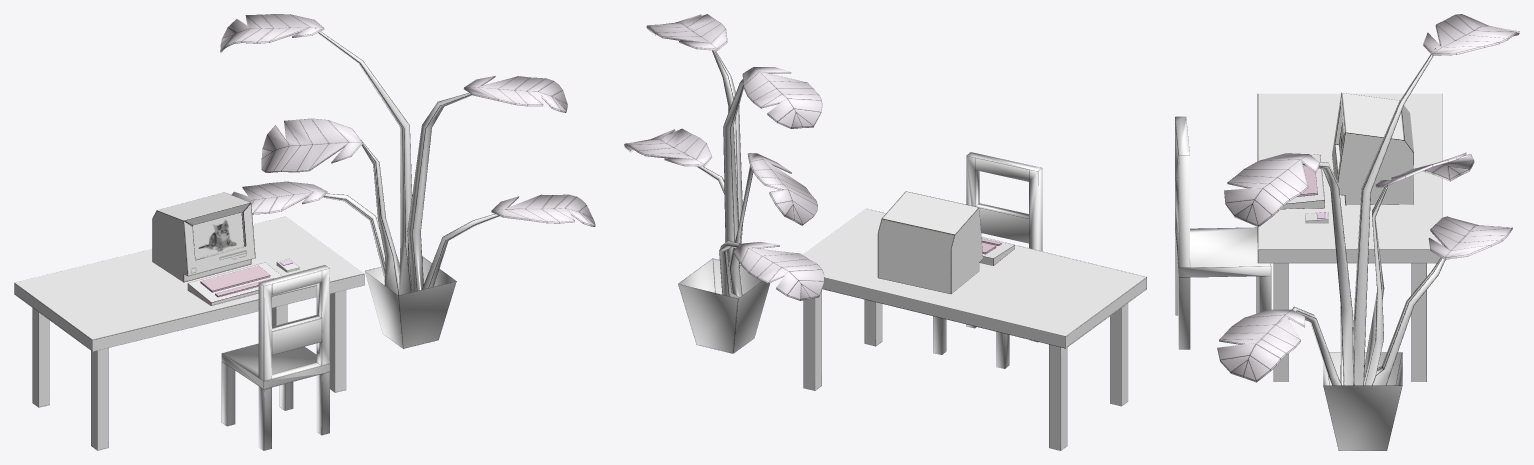
File: room_draft03.gltf
3 renders of one model, left to right at view 1: azimuth 30°, elevation 25°; view 2: azimuth 150°, elevation 25°; view 3: azimuth 270°, elevation 25°, orthographic. The views are drawn at different scales.
Visible parts, largest first — view 1: Palm, Table, Chair, Monitor, Keyboard, Screen; view 2: Table, Palm, Monitor, Chair, Keyboard; view 3: Palm, Table, Chair, Monitor, Keyboard.
Boxes of the visible parts, left/top/right/bottom form: Palm: left=220, top=14, right=595, bottom=348; Table: left=14, top=216, right=364, bottom=450; Chair: left=221, top=265, right=329, bottom=450; Monitor: left=152, top=192, right=255, bottom=282; Keyboard: left=187, top=262, right=281, bottom=305; Screen: left=192, top=212, right=243, bottom=258; Table: left=803, top=208, right=1146, bottom=450; Palm: left=624, top=14, right=824, bottom=353; Monitor: left=877, top=191, right=982, bottom=293; Chair: left=933, top=152, right=1042, bottom=368; Keyboard: left=979, top=238, right=1014, bottom=265; Palm: left=1217, top=14, right=1519, bottom=450; Table: left=1257, top=93, right=1442, bottom=381; Chair: left=1175, top=116, right=1271, bottom=349; Monitor: left=1332, top=92, right=1413, bottom=205; Keyboard: left=1281, top=154, right=1324, bottom=209.
Bounding box in the file's own units: 203 × 118 × 103.
13 materials, 13 textured.
